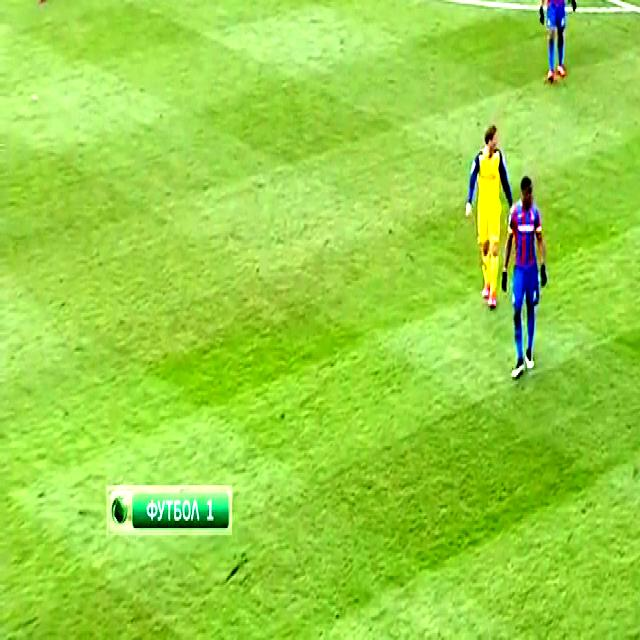soccer-player: (498, 169, 564, 381), (453, 120, 513, 315), (524, 0, 590, 96), (13, 0, 72, 9)
